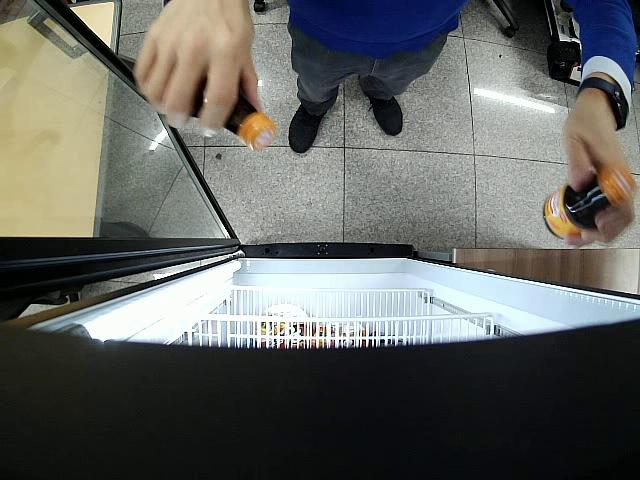00_hand: (134, 2, 262, 138), (564, 119, 631, 244)
17_vita500: (192, 69, 276, 151), (544, 166, 634, 240)
